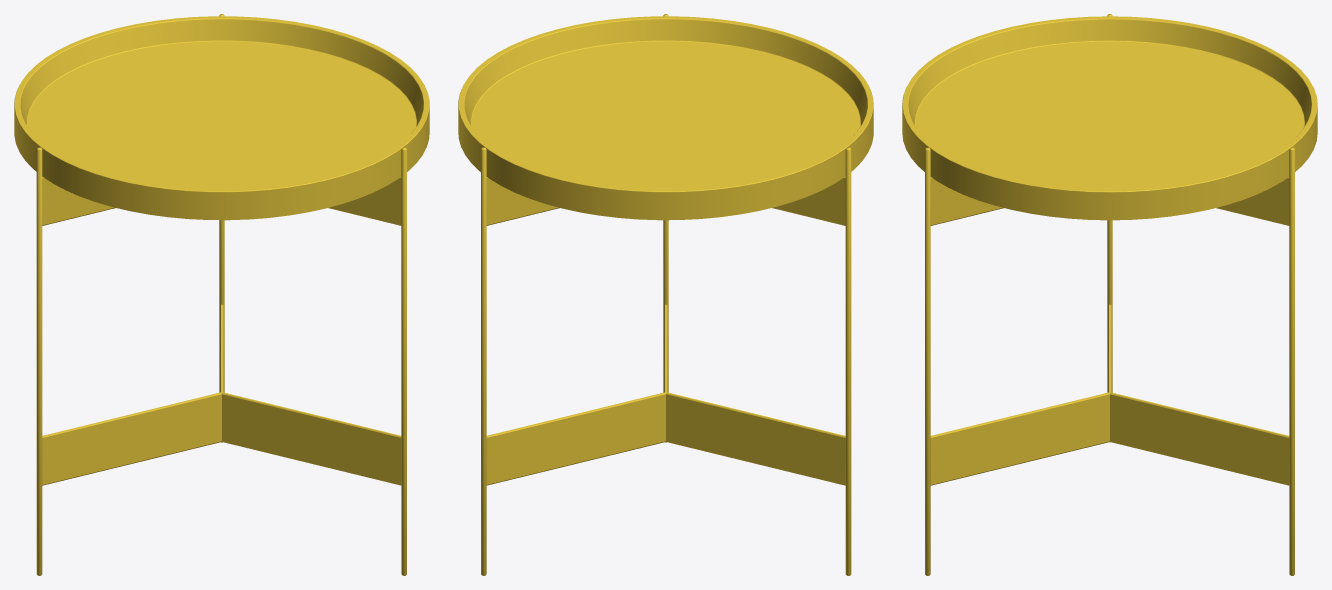
The model's file is scaledtable.glb.
3 views of the same model, side by side, from view 1: azimuth 30°, elevation 25°; view 2: azimuth 150°, elevation 25°; view 3: azimuth 270°, elevation 25° (orthographic).
Visible parts, largest first — view 1: Pianca_Height_45cm.001; view 2: Pianca_Height_45cm.001; view 3: Pianca_Height_45cm.001.
Part boxes in pixels (box(x1,y1,x2,y2)): Pianca_Height_45cm.001: box(14, 14, 429, 575); Pianca_Height_45cm.001: box(458, 14, 873, 575); Pianca_Height_45cm.001: box(902, 14, 1317, 575).
Size of the model in its own units: 0.6824 by 0.7627 by 0.6732.
